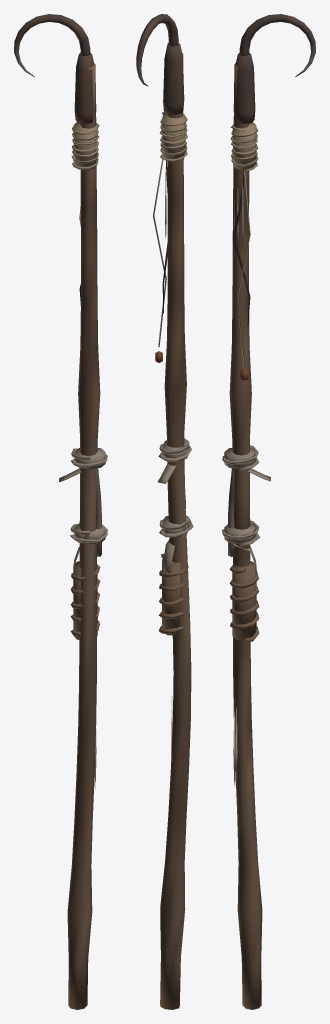
File: wpn_fishers_gaff.glb
3 views of the same model, side by side, from view 1: azimuth 90°, elevation 25°; view 2: azimuth 150°, elevation 25°; view 3: azimuth 270°, elevation 25° (orthographic).
Parts seen in each view (by area): view 1: wpn_fishers_gaff, wpn_fishers_gaff_worn; view 2: wpn_fishers_gaff, wpn_fishers_gaff_worn; view 3: wpn_fishers_gaff, wpn_fishers_gaff_worn.
Boxes of the visible parts, x1,y1,x2,y2 form: wpn_fishers_gaff: [14, 14, 100, 1009]; wpn_fishers_gaff_worn: [48, 16, 107, 574]; wpn_fishers_gaff: [136, 14, 191, 1009]; wpn_fishers_gaff_worn: [149, 18, 193, 572]; wpn_fishers_gaff: [229, 14, 315, 1009]; wpn_fishers_gaff_worn: [222, 14, 291, 575].
Size of what is drawn, in the model's own units: 0.0721 by 1.96 by 0.1681.
